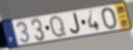3: (15, 20, 31, 44), (31, 17, 46, 42)
4: (88, 9, 102, 33)
J: (69, 12, 82, 35)
O: (101, 7, 118, 31)
Q: (49, 15, 68, 39)
